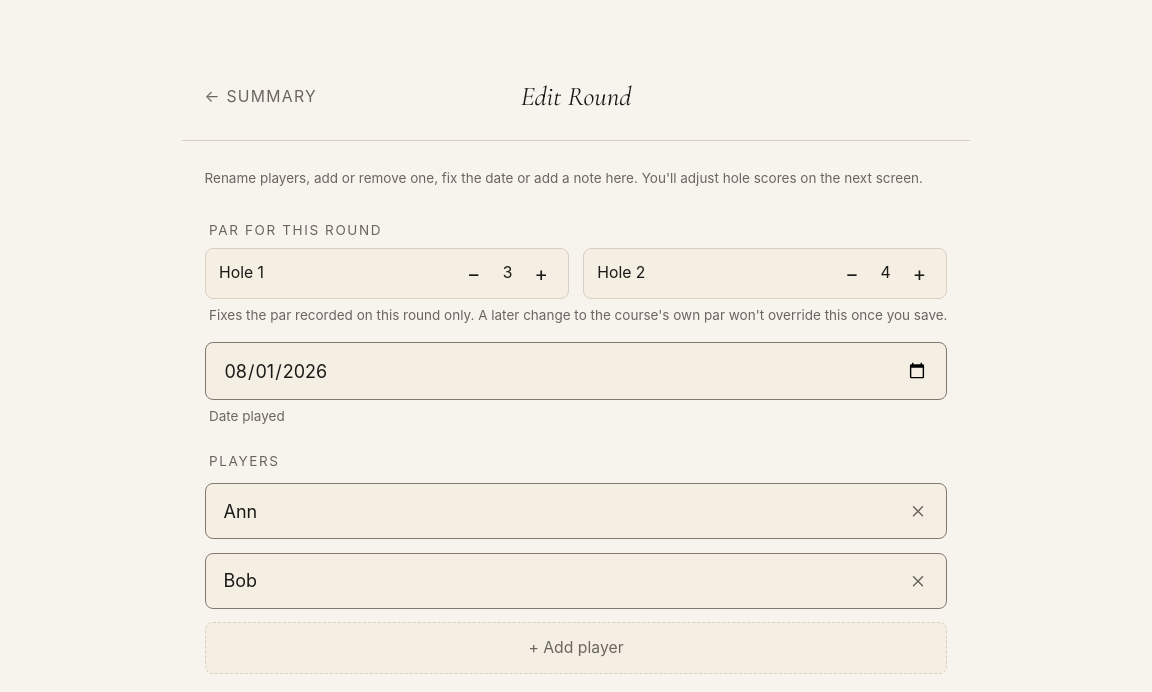
Test: Setup — adding/removing players during an edit › blocks saving on a duplicate name against an existing player, same rule as New Game
The image size is (1152, 692).
Click the button "+ Add player" at (576, 648), box [204, 622, 948, 674]
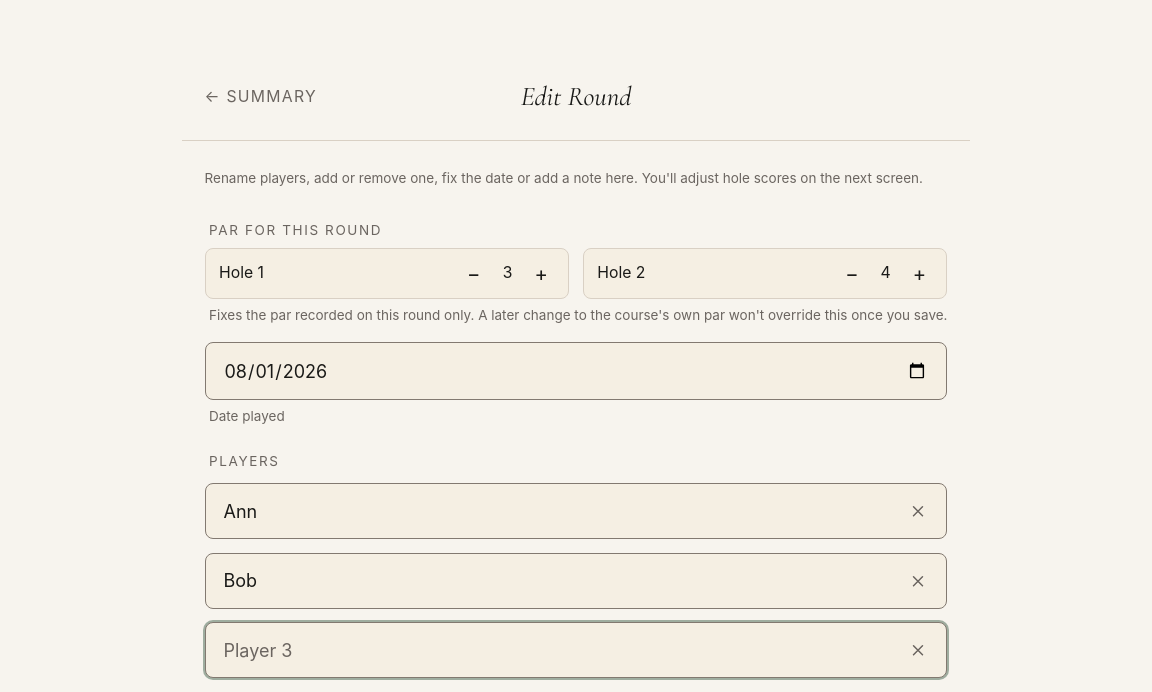
Type "ann" into the field with placeholder "Player 3" at (576, 650), box [204, 622, 948, 678]
(page scrolled)
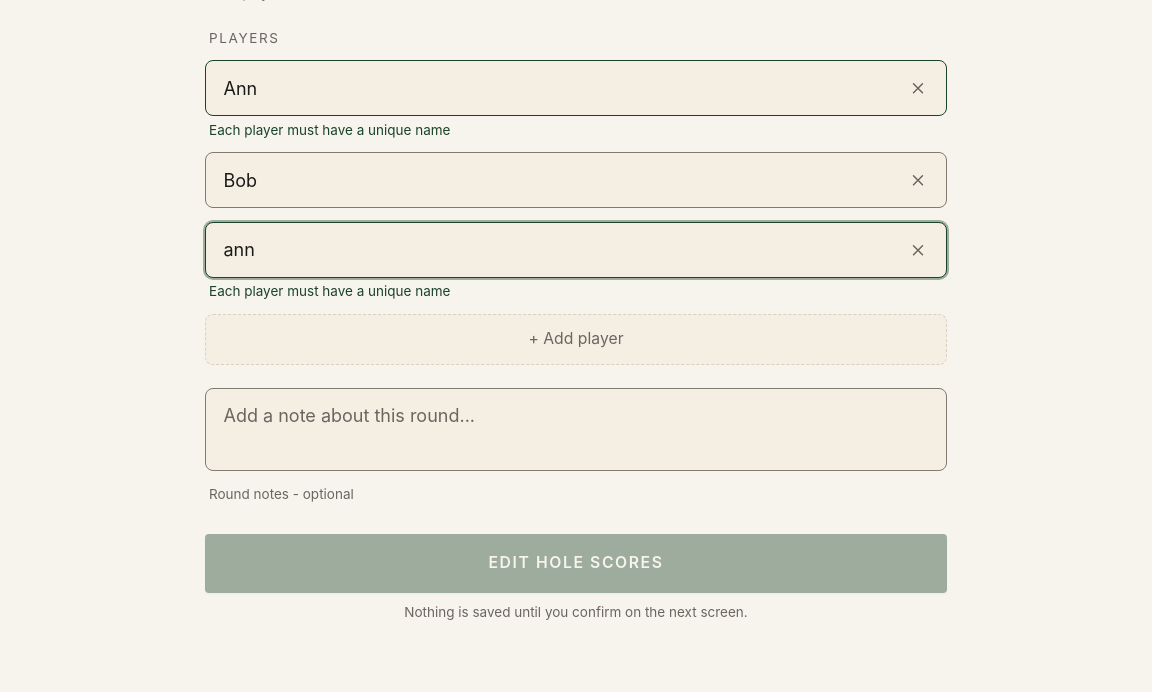
Expected: the button "Edit hole scores" is disabled, [204, 534, 948, 593]
Expected: the text "Each player must have a unique name" is shown 2 times, [209, 122, 450, 138]; [209, 283, 450, 299]
